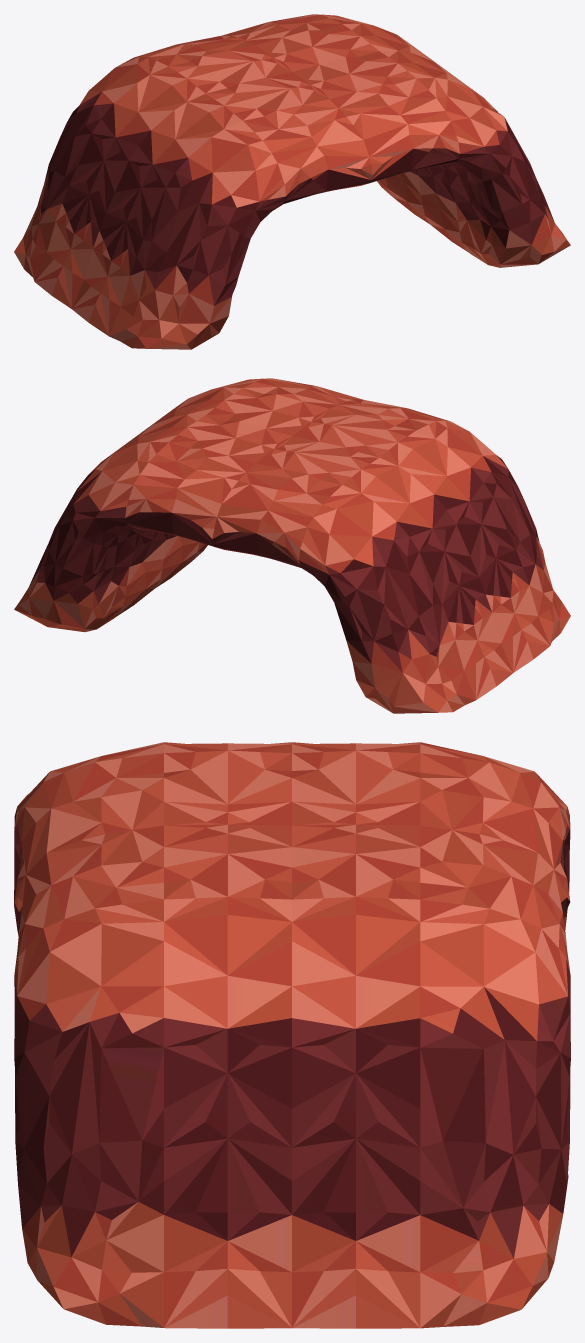
Rendered from Tunnel.fbx.
3 views of the same model, one above another, from view 1: azimuth 30°, elevation 25°; view 2: azimuth 150°, elevation 25°; view 3: azimuth 270°, elevation 25° (orthographic). The views are drawn at different scales.
Parts seen in each view (by area): view 1: polySurface28; view 2: polySurface28; view 3: polySurface28.
Boxes of the visible parts, x1=… form: polySurface28: x1=14, y1=14, x2=570, y2=349; polySurface28: x1=14, y1=378, x2=570, y2=713; polySurface28: x1=14, y1=742, x2=570, y2=1328.
Bounding box in the file's own units: 2048 × 868 × 1287.
